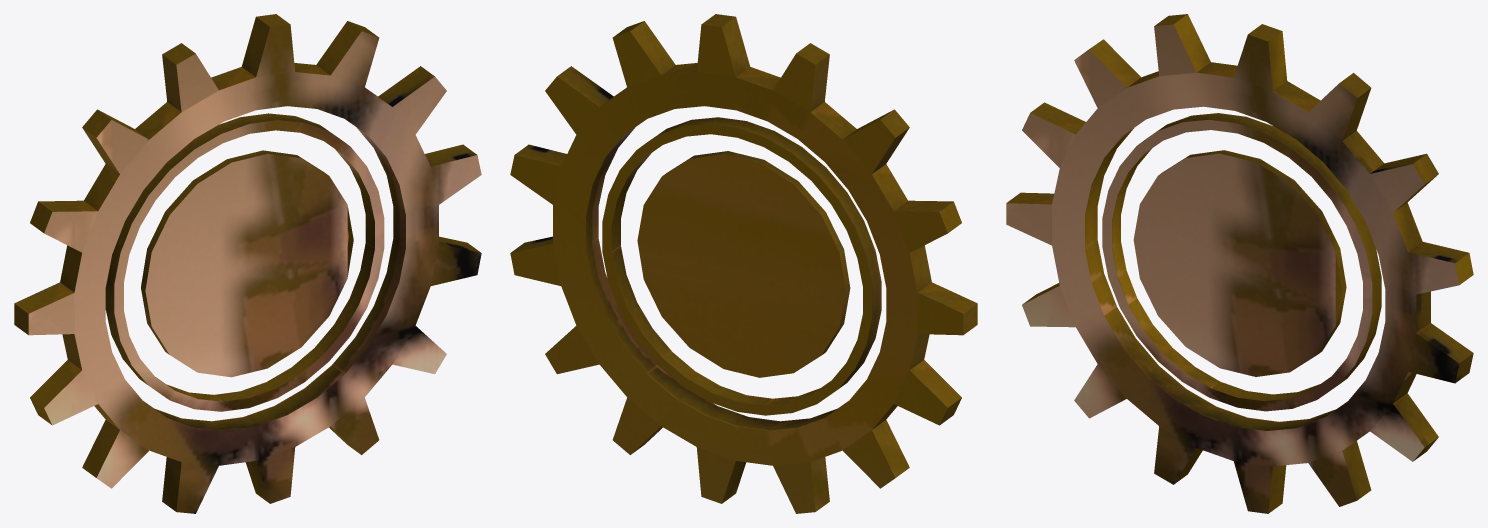
Rendered from engranaje_1.obj.
3 renders of one model, left to right at view 1: azimuth 30°, elevation 25°; view 2: azimuth 150°, elevation 25°; view 3: azimuth 330°, elevation 25°, orthographic.
Visible parts, largest first — view 1: Engranaje1_2_Engrenages; view 2: Engranaje1_2_Engrenages; view 3: Engranaje1_2_Engrenages.
Part boxes in pixels (x1,y1,x2,y2): Engranaje1_2_Engrenages: (14, 14, 481, 513); Engranaje1_2_Engrenages: (510, 14, 977, 513); Engranaje1_2_Engrenages: (1006, 14, 1473, 513).
Bounding box in the file's own units: 1.41 × 1.42 × 0.0777.
